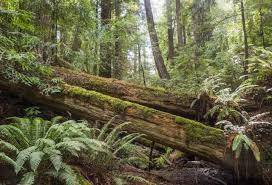Downstairs: (1, 2, 259, 173), (1, 57, 255, 129)
